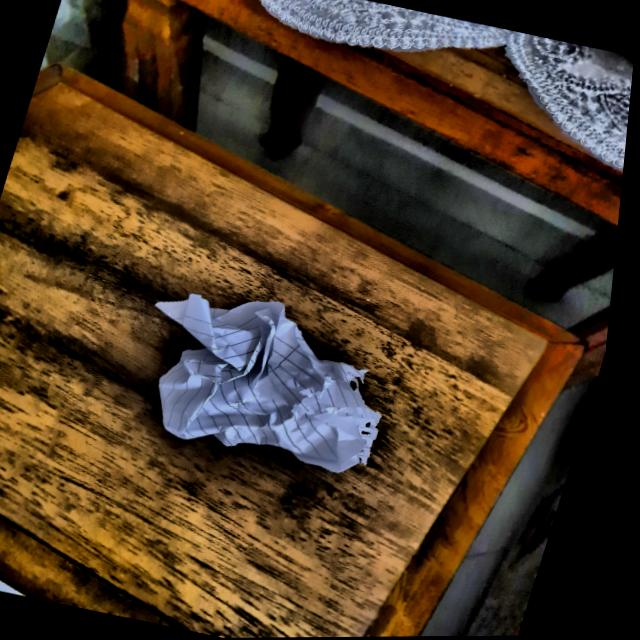Paper: (130, 277, 426, 483)
